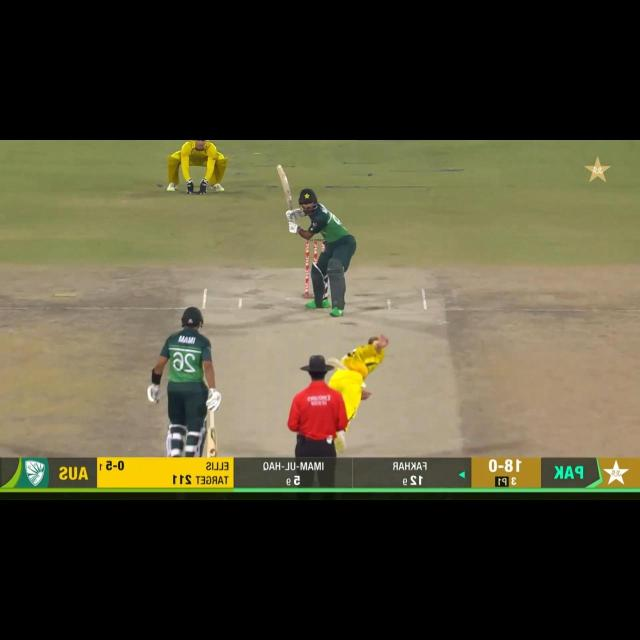bat: (276, 162, 294, 212), (207, 422, 220, 456)
toe: (274, 163, 284, 174)
